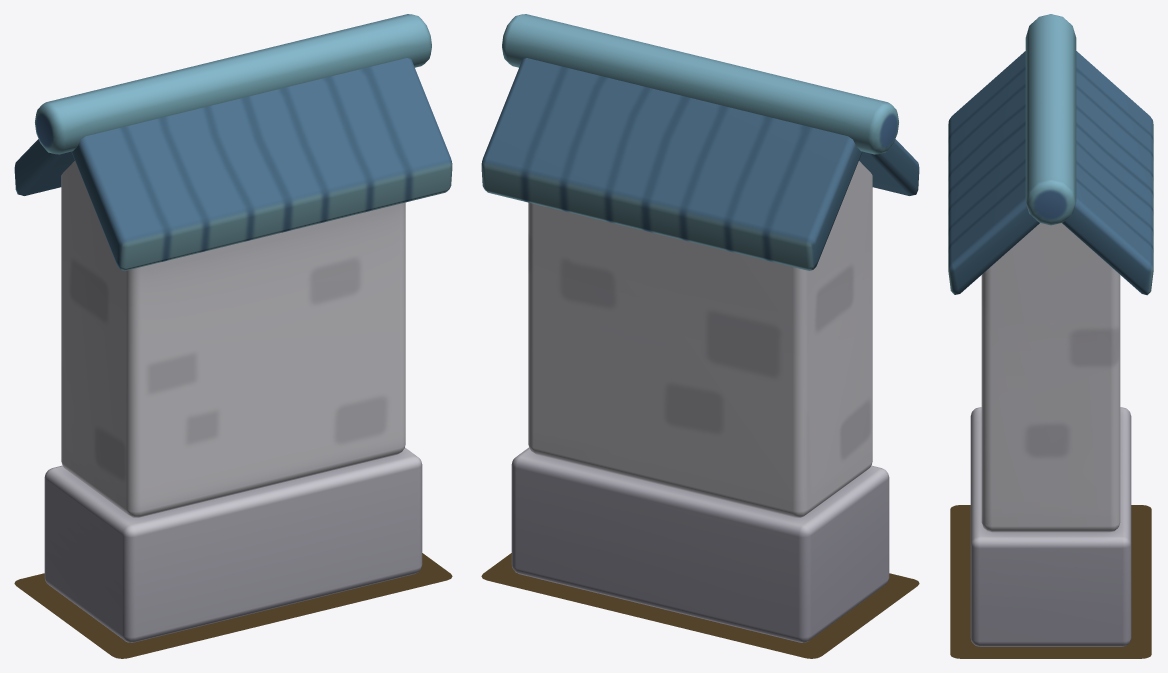
The model's file is JapanWall01A.fbx.
The picture shows the model from 3 angles, left to right: view 1: azimuth 30°, elevation 25°; view 2: azimuth 150°, elevation 25°; view 3: azimuth 270°, elevation 25°; orthographic projection. The views are drawn at different scales.
Visible parts, largest first — view 1: polySurface5, polySurface2, polySurface6; view 2: polySurface5, polySurface2, polySurface6; view 3: polySurface5, polySurface2, polySurface6.
Part boxes in pixels (x1,y1,x2,y2): polySurface5: (44, 161, 422, 642); polySurface2: (14, 14, 452, 270); polySurface6: (14, 553, 452, 658); polySurface5: (511, 161, 889, 642); polySurface2: (481, 14, 919, 270); polySurface6: (481, 553, 919, 658); polySurface5: (970, 223, 1131, 646); polySurface2: (948, 14, 1153, 295); polySurface6: (950, 505, 1151, 658).
Size of the model in its own units: 253 by 333 by 128.
